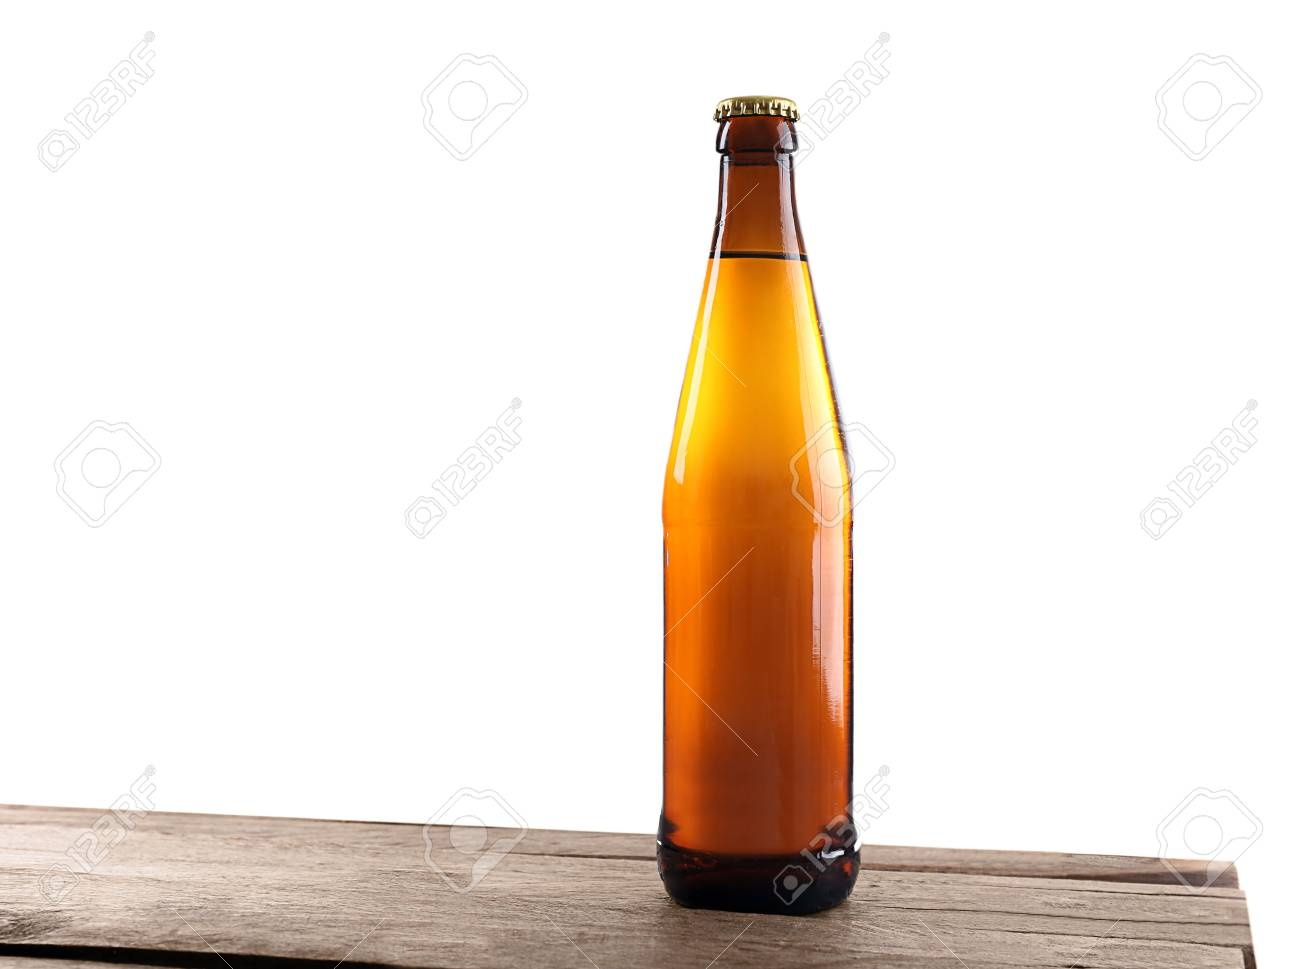beerBottle: (659, 102, 856, 916)
